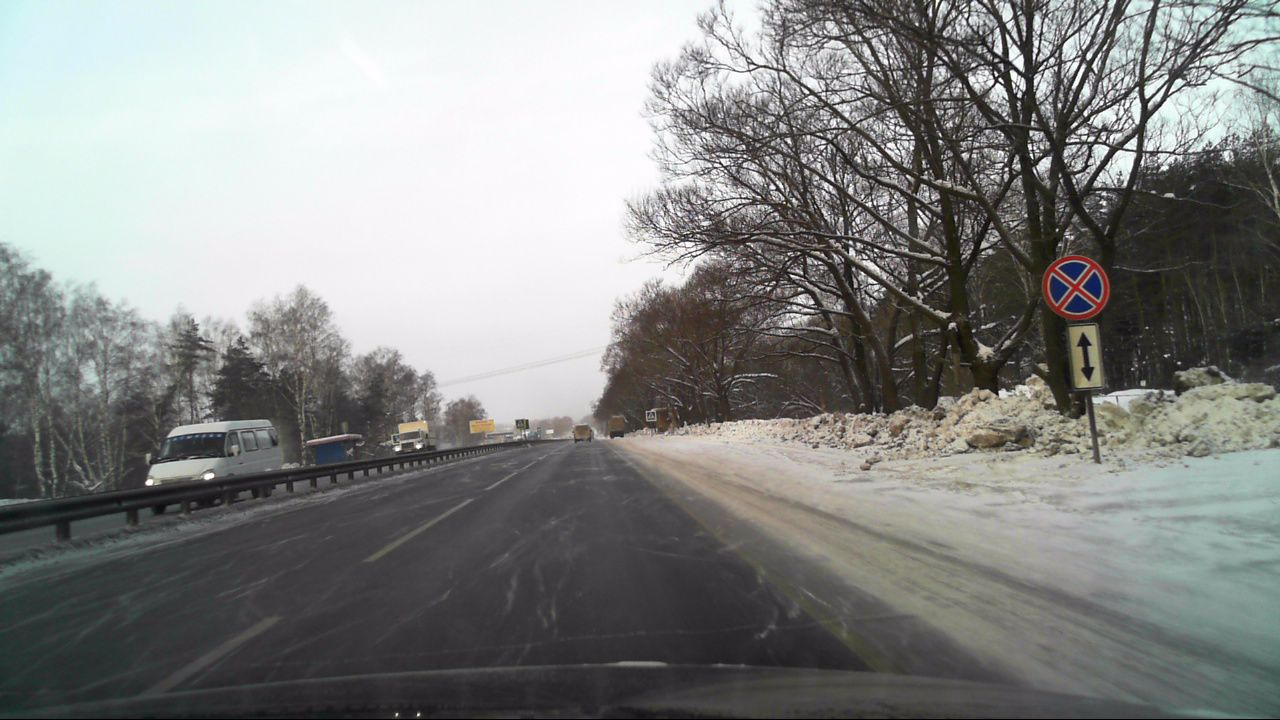No Parking: (1043, 254, 1109, 320)
